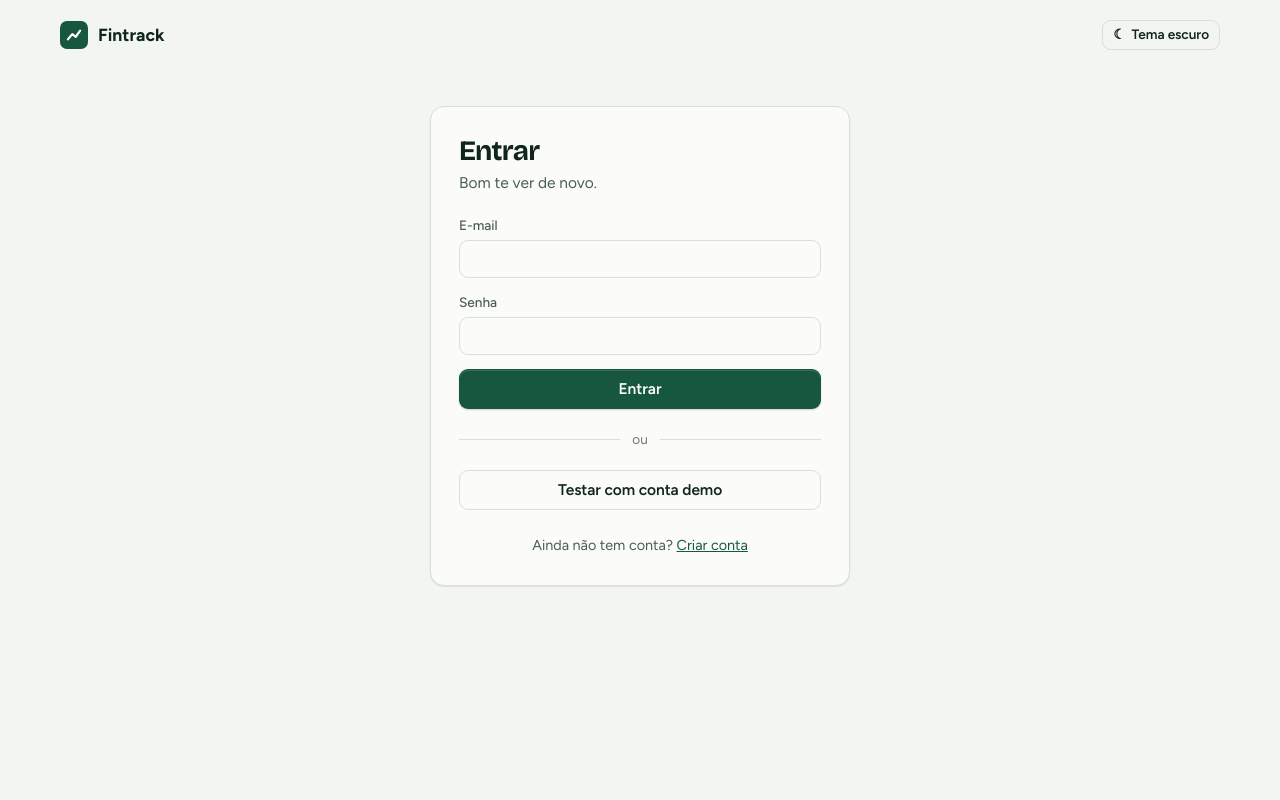
Auth flow › AC-406: shows a friendly error on wrong credentials
The width and height of the screenshot is (1280, 800).
Step 1. Type "ana@example.com" into the field labelled "E-mail" → (640,259), box [459,240,821,278]
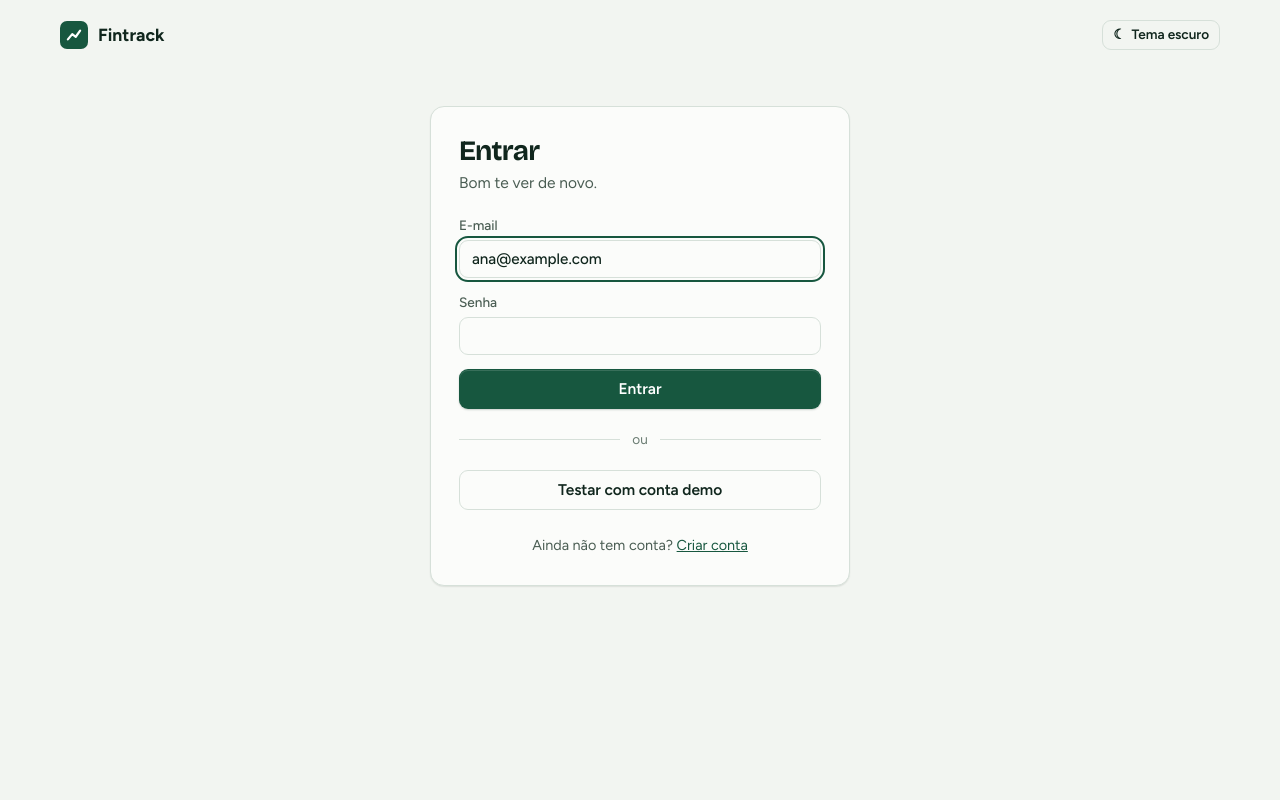
Step 2. Type "errada123" into the password field labelled "Senha" → (640,336), box [459,317,821,355]
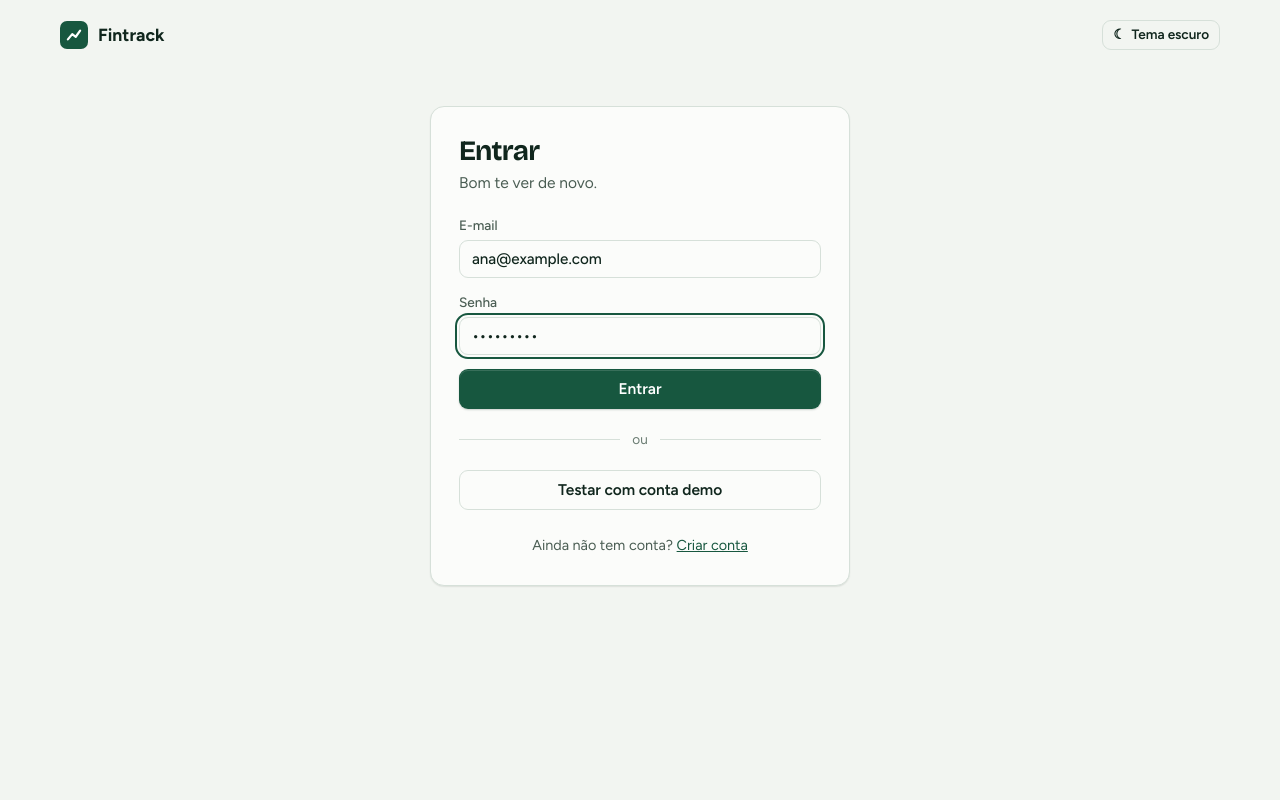
Step 3. Click the button "Entrar" → (640,389), box [459,369,821,409]
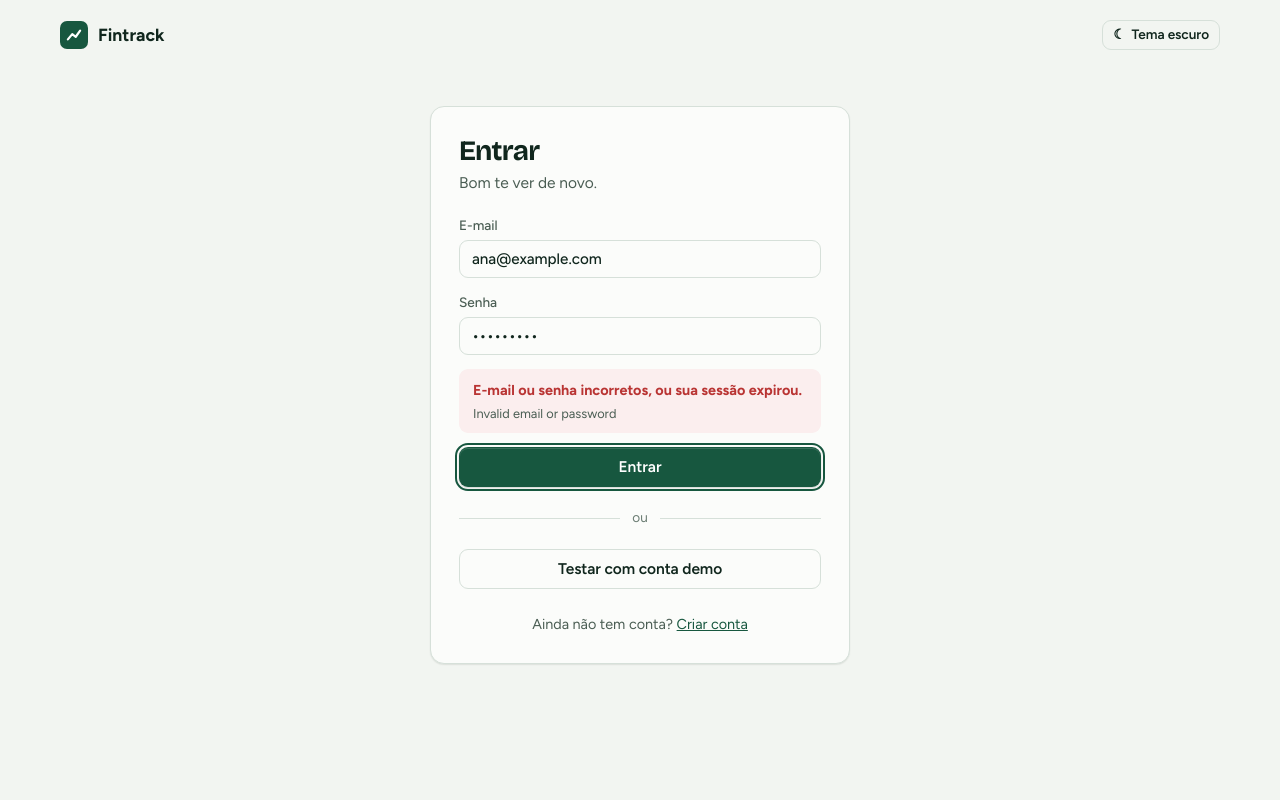
Check: the message shows "E-mail ou senha incorretos", box [473,381,802,399]
